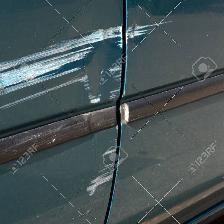door_scratch: (0, 24, 159, 114)
